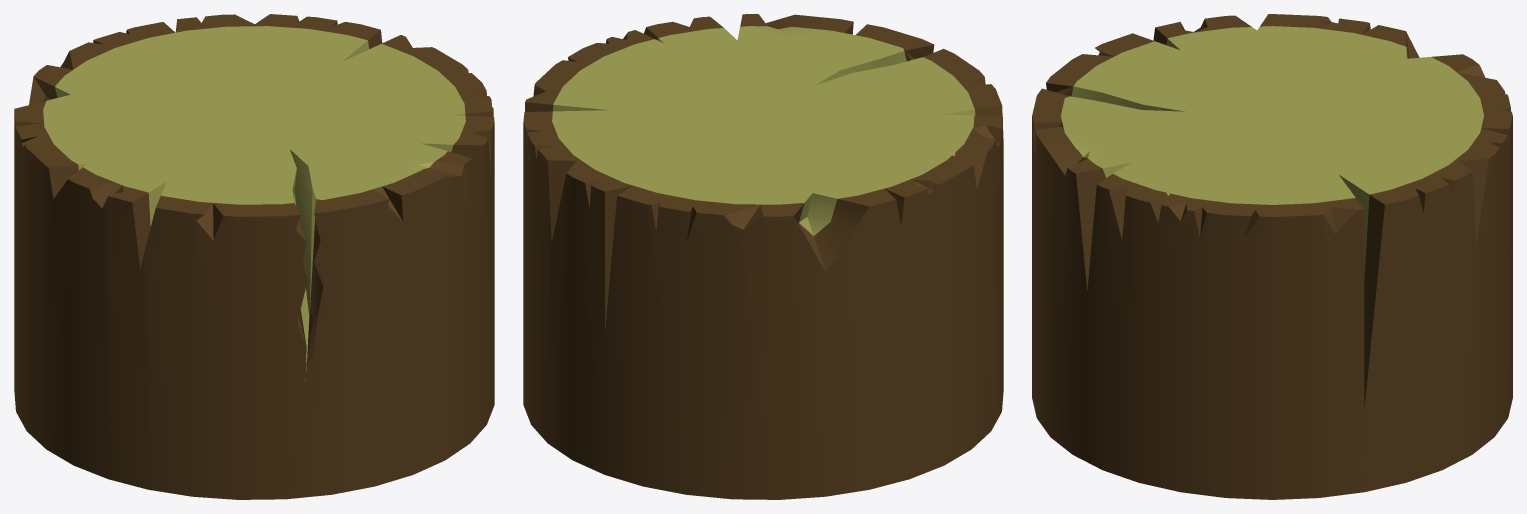
The model's file is TreeStumpUV.fbx.
3 renders of one model, left to right at view 1: azimuth 30°, elevation 25°; view 2: azimuth 150°, elevation 25°; view 3: azimuth 270°, elevation 25°, orthographic.
Visible parts, largest first — view 1: Cylinder.002; view 2: Cylinder.002; view 3: Cylinder.002.
Part boxes in pixels (x1,y1,x2,y2): Cylinder.002: (14, 14, 494, 499); Cylinder.002: (523, 14, 1003, 499); Cylinder.002: (1032, 14, 1512, 499).
Size of the model in its own units: 3.37 by 3.37 by 2.19.
